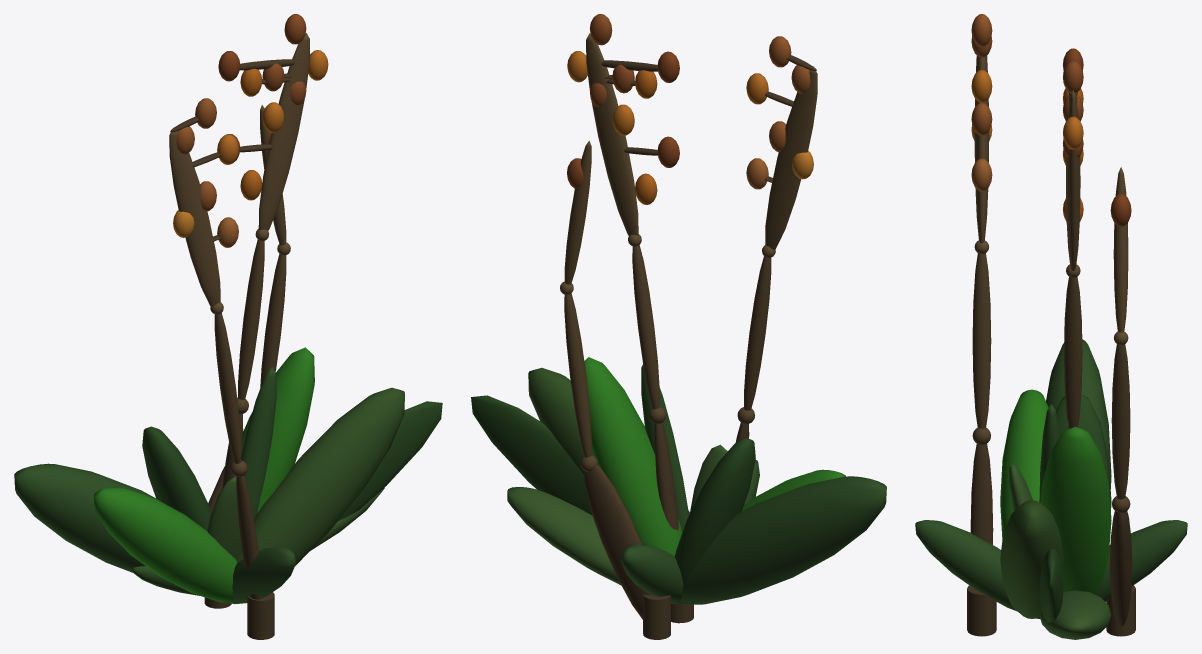
File: CMU3DRMCBushe4.glb
3 views of the same model, side by side, from view 1: azimuth 30°, elevation 25°; view 2: azimuth 150°, elevation 25°; view 3: azimuth 270°, elevation 25° (orthographic). The views are drawn at different scales.
Parts seen in each view (by area): view 1: basal leaf 7, basal leaf 1, basal leaf 0, basal leaf 6, visible stem 1 section 2, visible stem 0 section 2, basal leaf 3, basal leaf 8, basal leaf 5, inferred front back basal leaf 0, visible stem 1 section 1, visible stem 0 section 1 (+5 smaller); view 2: basal leaf 0, basal leaf 6, basal leaf 8, basal leaf 3, basal leaf 9, visible stem 1 section 2, visible stem 0 section 2, visible stem 2 section 0, basal leaf 7, inferred front back basal leaf 1, visible stem 2 section 1, visible stem 1 section 1 (+7 smaller); view 3: basal leaf 6, basal leaf 7, inferred front back basal leaf 0, basal leaf 1, visible stem 0 section 1, inferred front back basal leaf 1, visible stem 2 section 1, visible stem 1 section 1, basal leaf 9, basal leaf 0, visible stem 2 section 0, visible stem 0 section 0 (+16 smaller).
Boxes of the visible parts, bbox=[...] form: basal leaf 7: bbox=[237, 387, 404, 565]; basal leaf 1: bbox=[94, 487, 237, 602]; basal leaf 0: bbox=[14, 463, 160, 572]; basal leaf 6: bbox=[221, 347, 314, 513]; visible stem 1 section 2: bbox=[258, 33, 309, 230]; visible stem 0 section 2: bbox=[169, 128, 220, 306]; basal leaf 3: bbox=[142, 426, 211, 530]; basal leaf 8: bbox=[338, 401, 442, 520]; basal leaf 5: bbox=[241, 366, 276, 518]; inferred front back basal leaf 0: bbox=[229, 547, 296, 603]; visible stem 1 section 1: bbox=[238, 239, 264, 399]; visible stem 0 section 1: bbox=[214, 313, 241, 463]; basal leaf 0: bbox=[679, 476, 886, 604]; basal leaf 6: bbox=[584, 357, 682, 556]; basal leaf 8: bbox=[471, 395, 592, 515]; basal leaf 3: bbox=[675, 438, 755, 584]; basal leaf 9: bbox=[507, 487, 687, 604]; visible stem 1 section 2: bbox=[586, 33, 638, 235]; visible stem 0 section 2: bbox=[765, 66, 817, 249]; visible stem 2 section 0: bbox=[584, 465, 651, 619]; basal leaf 7: bbox=[528, 367, 689, 514]; inferred front back basal leaf 1: bbox=[621, 544, 683, 602]; visible stem 2 section 1: bbox=[564, 293, 591, 457]; visible stem 1 section 1: bbox=[632, 245, 659, 409]; basal leaf 6: bbox=[1040, 427, 1111, 594]; basal leaf 7: bbox=[1000, 500, 1063, 618]; inferred front back basal leaf 0: bbox=[915, 520, 1040, 618]; basal leaf 1: bbox=[1000, 389, 1048, 539]; visible stem 0 section 1: bbox=[972, 253, 991, 428]; inferred front back basal leaf 1: bbox=[1096, 520, 1187, 601]; visible stem 2 section 1: bbox=[1111, 344, 1130, 499]; visible stem 1 section 1: bbox=[1064, 277, 1082, 428]; basal leaf 9: bbox=[1039, 590, 1111, 639]; basal leaf 0: bbox=[1046, 339, 1111, 488]; visible stem 2 section 0: bbox=[1109, 511, 1132, 626]; visible stem 0 section 0: bbox=[970, 443, 993, 544].
Bounding box in the file's own units: 0.5909 × 0.7723 × 0.3133.
